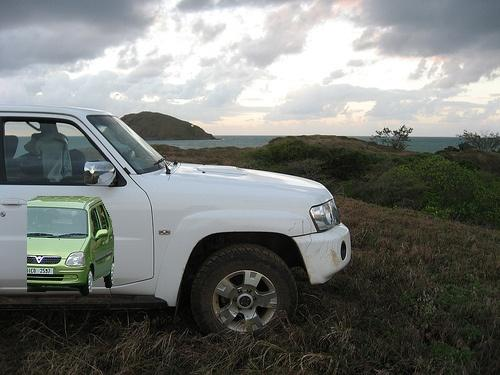tampered: (28, 197, 114, 296)
